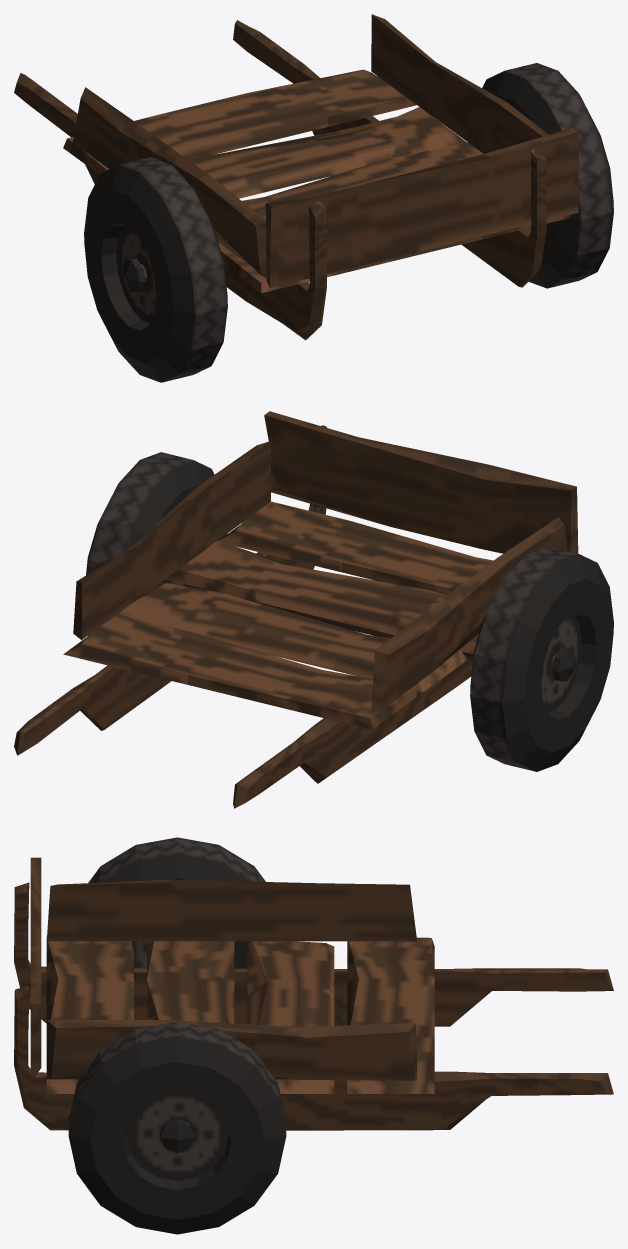
The model's file is Cart_Medium.fbx.
3 views of the same model, one above another, from view 1: azimuth 30°, elevation 25°; view 2: azimuth 150°, elevation 25°; view 3: azimuth 270°, elevation 25° (orthographic). The views are drawn at different scales.
Visible parts, largest first — view 1: Plane.018; view 2: Plane.018; view 3: Plane.018.
Part boxes in pixels (x1,y1,x2,y2): Plane.018: (14,14,613,382); Plane.018: (14,411,613,808); Plane.018: (14,837,613,1234).
Bounding box in the file's own units: 230 × 104 × 275.
